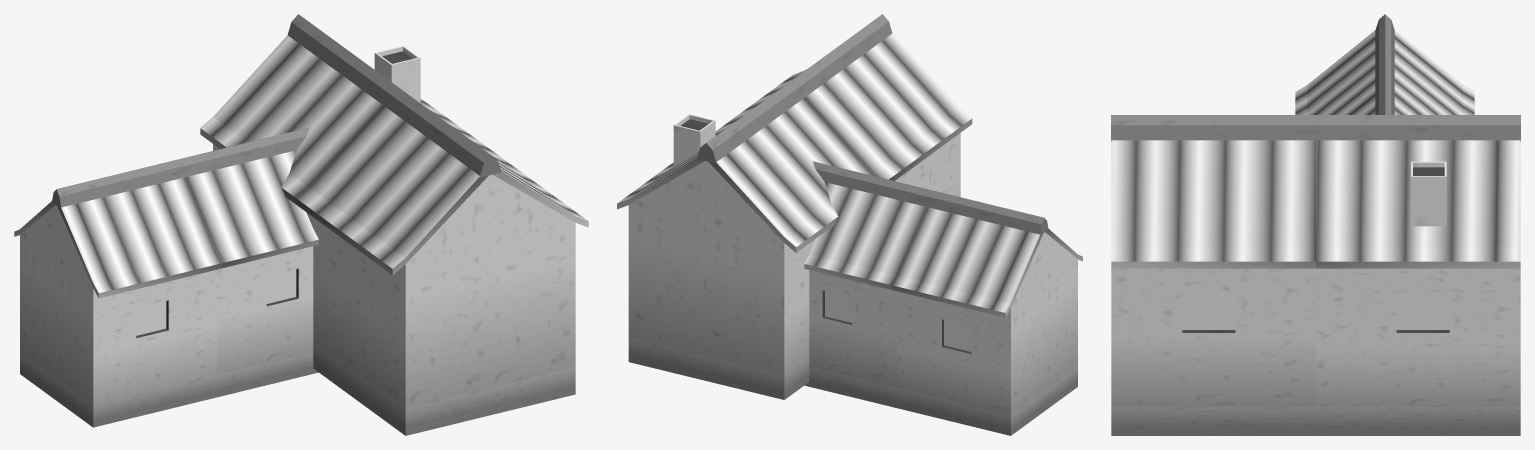
Rendered from WesternHouseC.fbx.
The picture shows the model from 3 angles, left to right: view 1: azimuth 30°, elevation 25°; view 2: azimuth 150°, elevation 25°; view 3: azimuth 270°, elevation 25°; orthographic projection. The views are drawn at different scales.
Visible parts, largest first — view 1: HouseC; view 2: HouseC; view 3: HouseC.
Part boxes in pixels (<box>): HouseC: <box>14,14,588,435</box>; HouseC: <box>617,14,1082,435</box>; HouseC: <box>1111,14,1520,435</box>.
Bounding box in the file's own units: 1590 × 1000 × 1315.
